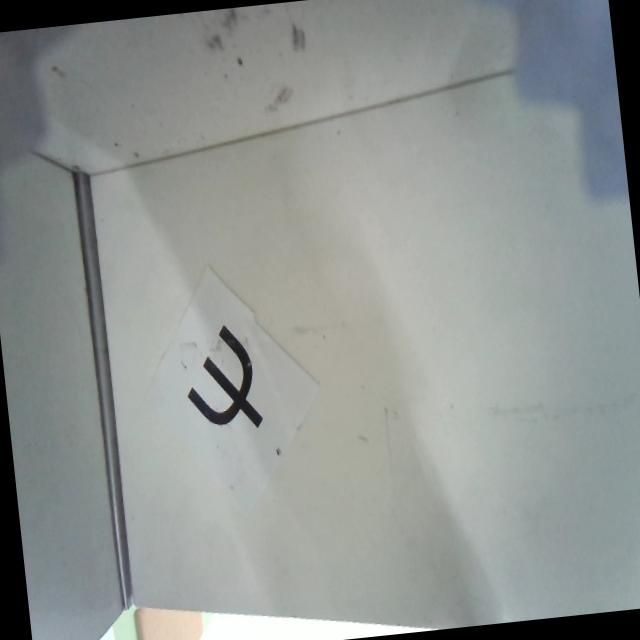nedoF: (179, 319, 264, 436)
